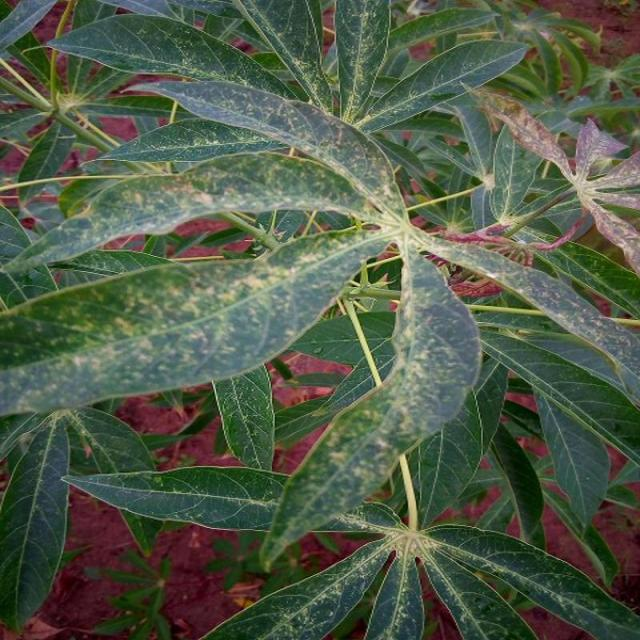cassava leaf: (1, 1, 638, 636), (0, 77, 410, 416), (256, 236, 482, 572)
